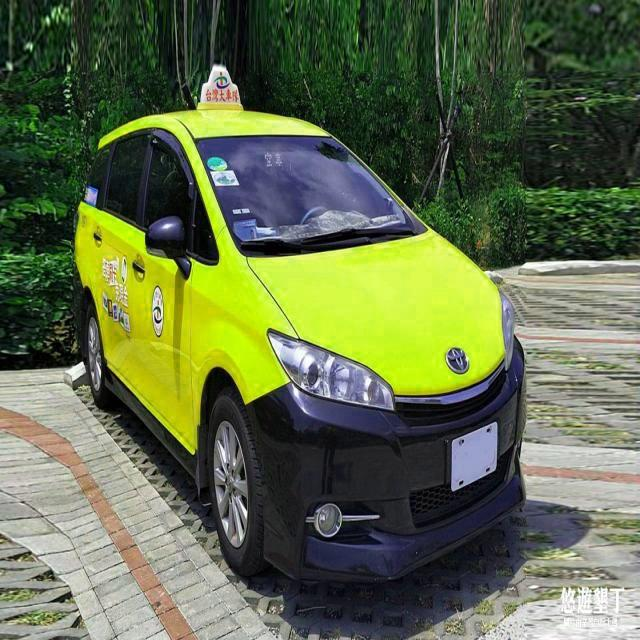taxi: (56, 60, 563, 609)
